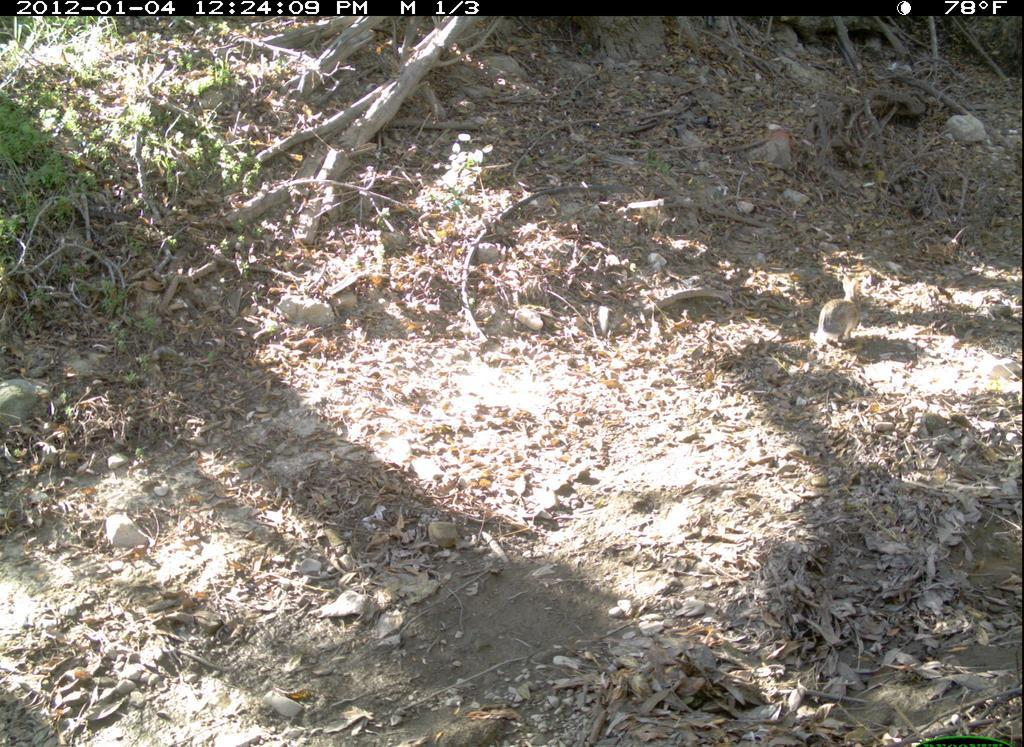rabbit: (811, 271, 882, 365)
